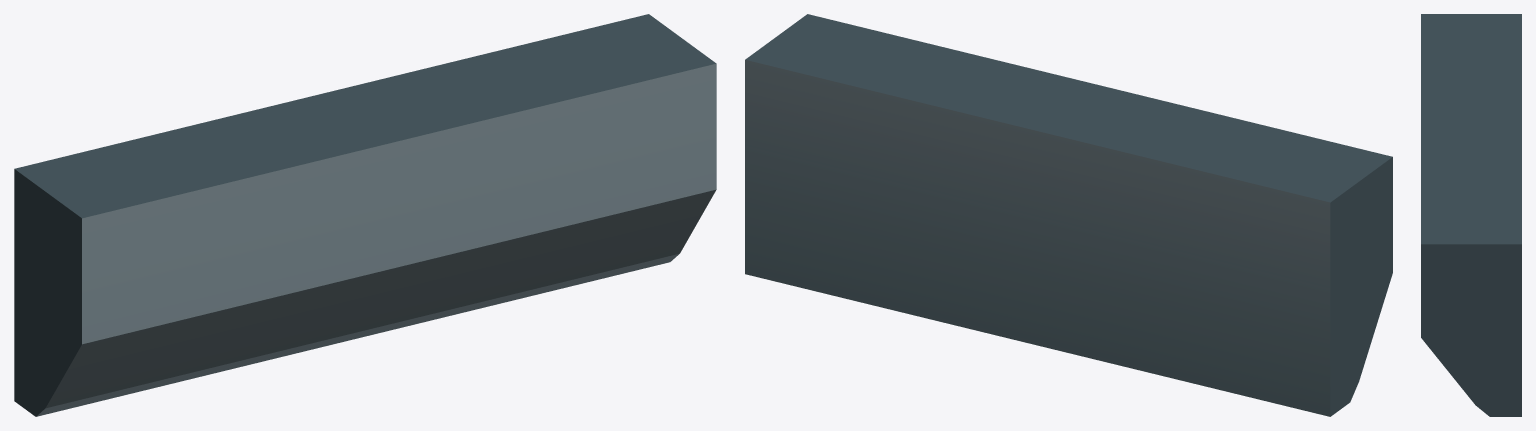
Rendered from Wall_type_C_006.glb.
3 views of the same model, side by side, from view 1: azimuth 30°, elevation 25°; view 2: azimuth 150°, elevation 25°; view 3: azimuth 270°, elevation 25° (orthographic). The views are drawn at different scales.
Visible parts, largest first — view 1: Wall_type_C_006; view 2: Wall_type_C_006; view 3: Wall_type_C_006.
Boxes of the visible parts, box(x1,y1,x2,y2) form: Wall_type_C_006: box(14, 14, 716, 416); Wall_type_C_006: box(745, 14, 1392, 416); Wall_type_C_006: box(1421, 14, 1521, 416).
Size of the model in its own units: 2 by 0.7 by 0.37.
Materials: 1 (1 with a texture image).
